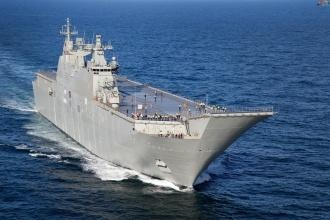warship: (33, 18, 277, 182)
